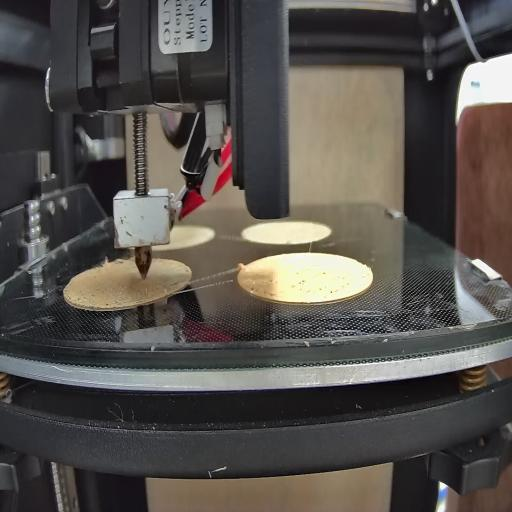under_extrusion: (290, 266, 352, 302), (72, 280, 110, 307), (246, 280, 276, 297), (166, 270, 187, 292)
